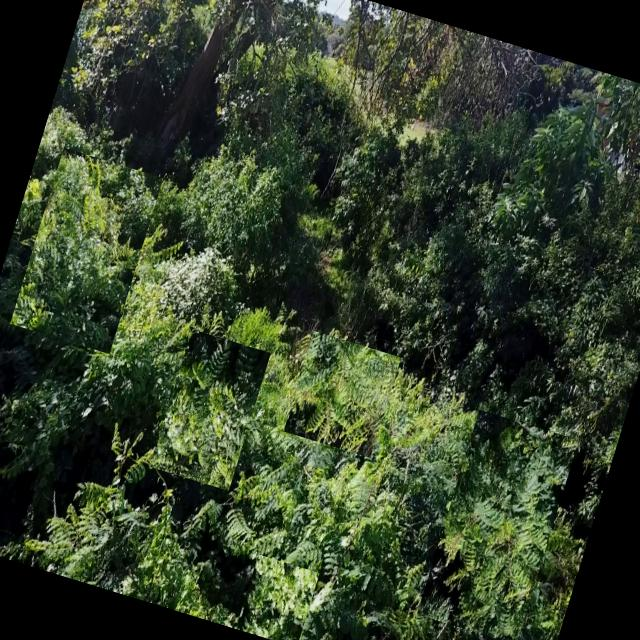Mysore-Thorn-Weed: (28, 407, 242, 616), (416, 409, 578, 640), (10, 147, 163, 354), (71, 256, 238, 442), (277, 443, 437, 624), (150, 329, 270, 491), (284, 330, 401, 458), (235, 554, 319, 640)
